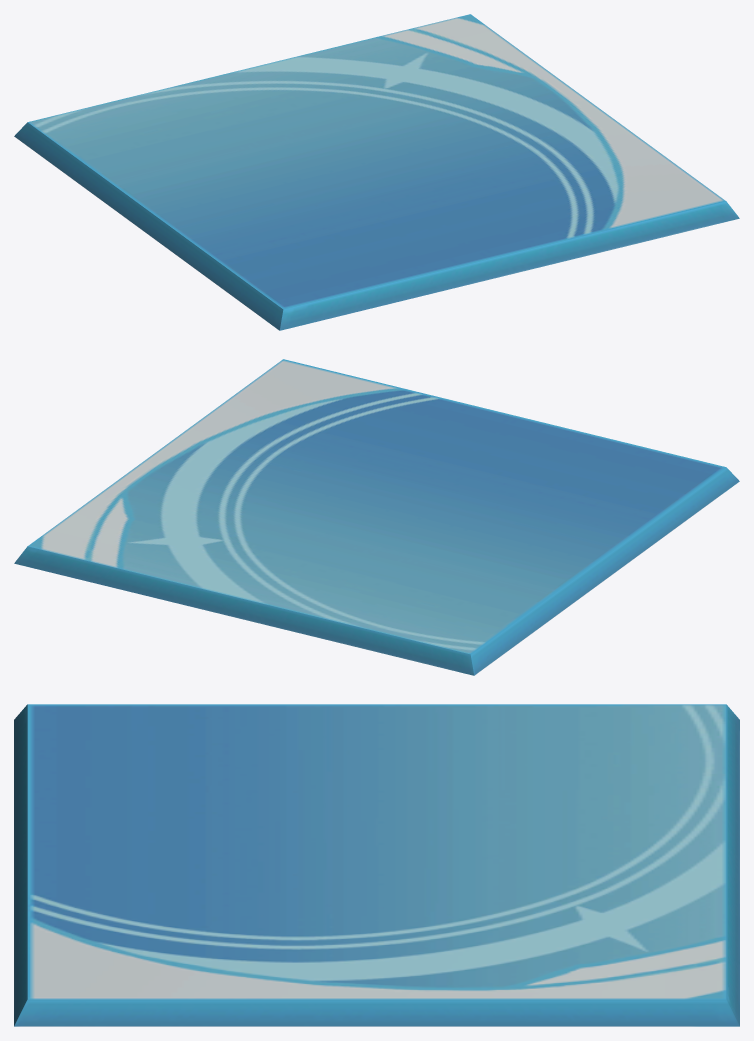
The model's file is Homeworld_Ani_Interior_Common_Walldecoration_Prop_MechanicalDrawing_01_01_Vo.fbx.
3 renders of one model, top to bottom at view 1: azimuth 30°, elevation 25°; view 2: azimuth 150°, elevation 25°; view 3: azimuth 270°, elevation 25°, orthographic. The views are drawn at different scales.
Visible parts, largest first — view 1: Homeworld_Ani_Interior_Common_Walldecoration_Prop_Mechanical; view 2: Homeworld_Ani_Interior_Common_Walldecoration_Prop_Mechanical; view 3: Homeworld_Ani_Interior_Common_Walldecoration_Prop_Mechanical.
Part boxes in pixels (x1=…): Homeworld_Ani_Interior_Common_Walldecoration_Prop_Mechanical: x1=14, y1=14, x2=739, y2=330; Homeworld_Ani_Interior_Common_Walldecoration_Prop_Mechanical: x1=14, y1=359, x2=739, y2=675; Homeworld_Ani_Interior_Common_Walldecoration_Prop_Mechanical: x1=14, y1=704, x2=739, y2=1026.
Size of the model in its own units: 0.2625 by 0.00855 by 0.2625.
